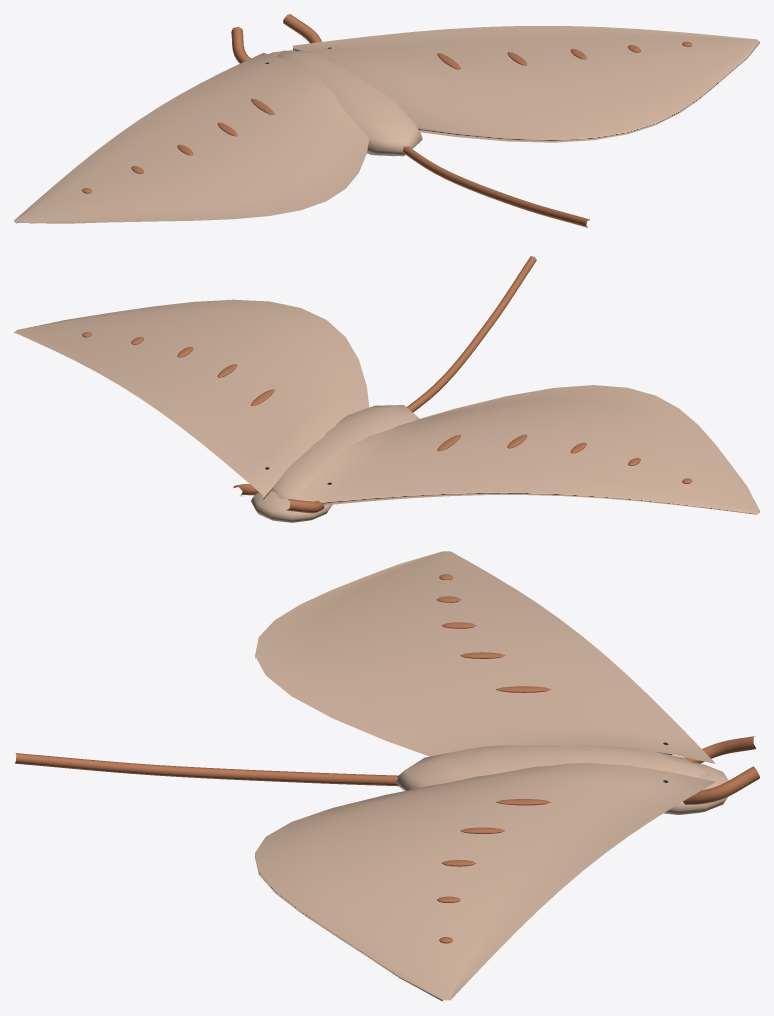
File: sky-ray.glb
3 renders of one model, top to bottom at view 1: azimuth 30°, elevation 25°; view 2: azimuth 150°, elevation 25°; view 3: azimuth 270°, elevation 25°, orthographic. The views are drawn at different scales.
Parts seen in each view (by area): view 1: wing-right, wing-left, body, tail, markings; view 2: wing-left, wing-right, body, tail, markings; view 3: wing-right, wing-left, body, tail, markings.
Boxes of the visible parts, <box> form: wing-right: <box>293,26,759,142</box>; wing-left: <box>14,53,369,223</box>; body: <box>269,50,422,156</box>; tail: <box>403,146,590,227</box>; markings: <box>231,14,321,63</box>; wing-left: <box>295,385,759,514</box>; wing-right: <box>14,299,369,499</box>; body: <box>251,405,419,522</box>; tail: <box>406,256,536,412</box>; markings: <box>233,484,324,513</box>; wing-right: <box>255,762,715,1001</box>; wing-left: <box>255,551,715,763</box>; body: <box>395,744,728,814</box>; tail: <box>15,753,398,786</box>; markings: <box>683,736,759,804</box>.
Size of the model in its own units: 6.56 by 0.4884 by 4.61.
